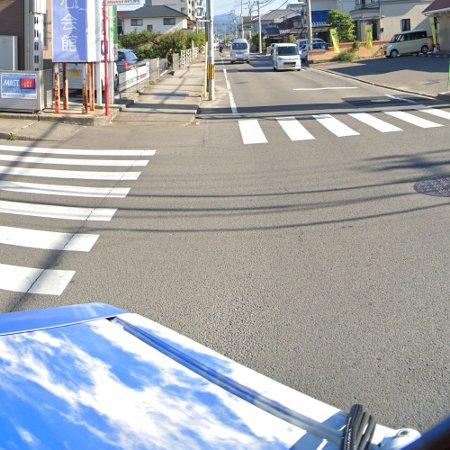crosswalks: (233, 104, 450, 147)
